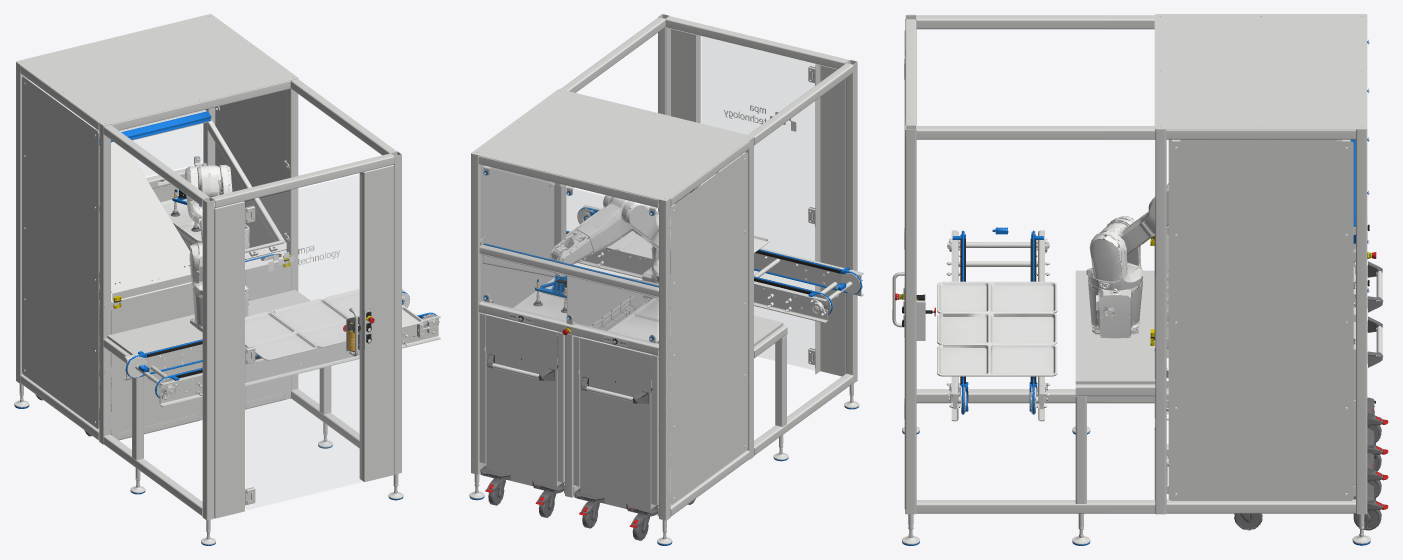
The model's file is Aufleger_Modul_2_prospekt.glb.
3 views of the same model, side by side, from view 1: azimuth 30°, elevation 25°; view 2: azimuth 150°, elevation 25°; view 3: azimuth 270°, elevation 25° (orthographic). The views are drawn at different scales.
Parts seen in each view (by area): view 1: Edelstahl, Glas, Weiss, Blau, Schwarz; view 2: Edelstahl, Glas, Weiss, Metall_dunkel, Blau, Schwarz; view 3: Edelstahl, Weiss, Metall_dunkel, Blau, Schwarz.
Part boxes in pixels (<box>): Edelstahl: <box>14,14,440,544</box>; Glas: <box>29,80,361,509</box>; Weiss: <box>24,82,439,423</box>; Blau: <box>14,111,439,545</box>; Schwarz: <box>19,180,421,545</box>; Edelstahl: <box>469,14,863,544</box>; Glas: <box>480,36,815,370</box>; Weiss: <box>482,105,862,498</box>; Metall_dunkel: <box>480,189,695,540</box>; Blau: <box>469,170,861,545</box>; Schwarz: <box>476,187,854,545</box>; Edelstahl: <box>892,14,1370,544</box>; Weiss: <box>937,40,1382,495</box>; Metall_dunkel: <box>917,261,1383,530</box>; Blau: <box>902,40,1370,545</box>; Schwarz: <box>902,224,1369,545</box>.
Size of the model in its own units: 1.74 by 2.02 by 2.18.
Materials: 11 (9 with a texture image).
